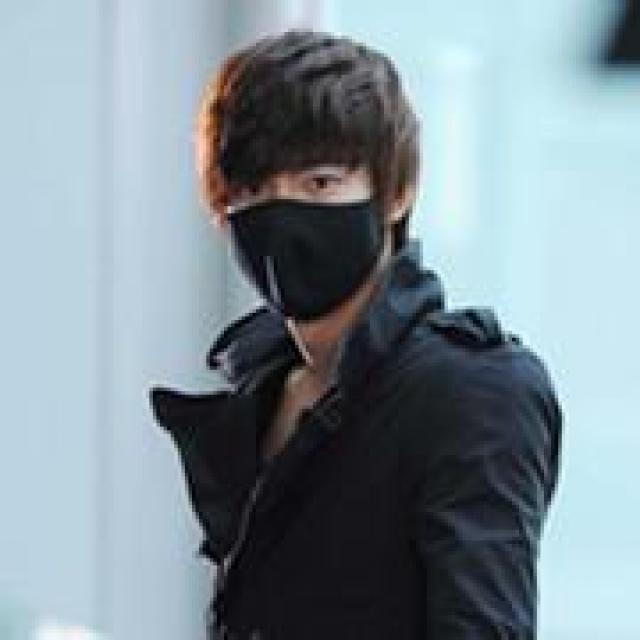mask: (222, 124, 375, 310)
